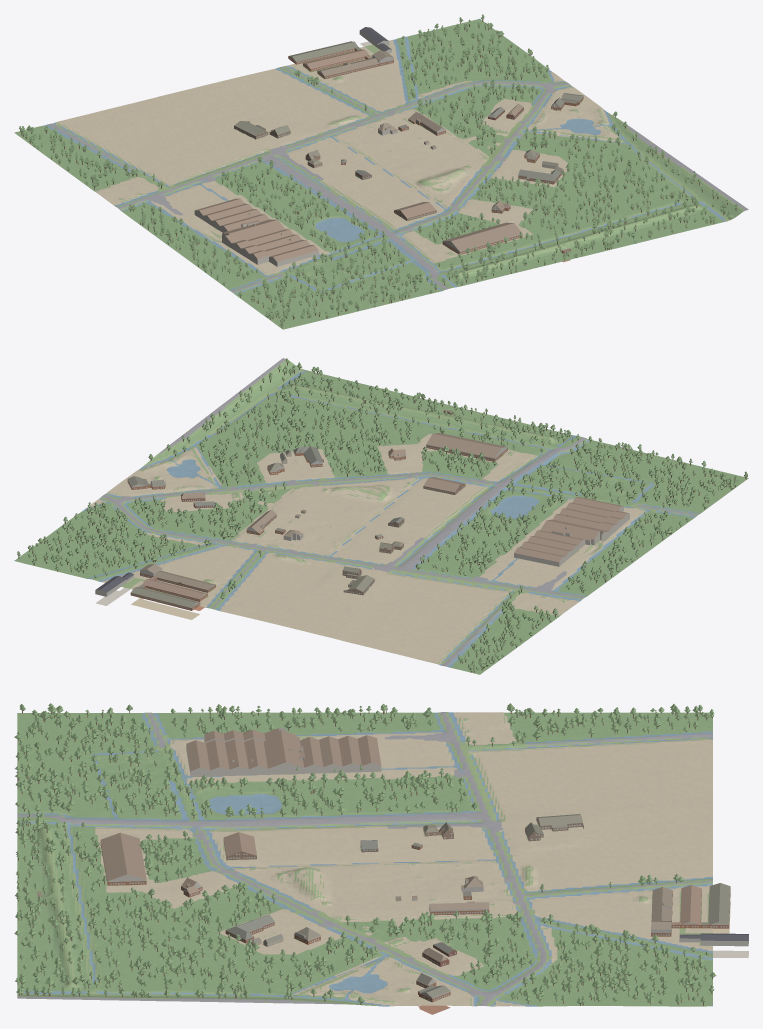
Rendered from bosven-veghel_x334_y811.glb.
3 renders of one model, top to bottom at view 1: azimuth 30°, elevation 25°; view 2: azimuth 150°, elevation 25°; view 3: azimuth 270°, elevation 25°, orthographic. The views are drawn at different scales.
Parts seen in each view (by area): view 1: class:green, class:sand, class:tree, class:grass, class:roof, class:water, class:road, class:wall, class:trunk, class:trim; view 2: class:green, class:sand, class:tree, class:grass, class:roof, class:water, class:road, class:wall, class:trunk, class:trim; view 3: class:sand, class:green, class:tree, class:grass, class:roof, class:water, class:road, class:wall, class:trunk, class:trim.
Part boxes in pixels (box(x1,y1,x2,y2)): class:green: box(14, 19, 742, 329); class:sand: box(55, 40, 624, 275); class:tree: box(19, 14, 737, 325); class:grass: box(55, 37, 744, 293); class:roof: box(196, 27, 583, 262); class:water: box(44, 18, 726, 294); class:road: box(48, 66, 748, 292); class:wall: box(194, 31, 583, 266); class:trunk: box(20, 19, 736, 327); class:trim: box(195, 33, 583, 265); class:green: box(15, 360, 748, 674); class:sand: box(86, 433, 645, 664); class:tree: box(17, 358, 747, 671); class:grass: box(89, 360, 698, 664); class:roof: box(96, 409, 628, 608); class:water: box(14, 370, 699, 667); class:road: box(101, 358, 697, 666); class:wall: box(95, 410, 629, 619); class:trunk: box(18, 363, 746, 672); class:trim: box(96, 412, 629, 609); class:sand: box(95, 712, 712, 1006); class:green: box(17, 712, 712, 1006); class:tree: box(14, 703, 716, 1003); class:grass: box(17, 712, 712, 1006); class:roof: box(38, 727, 748, 997); class:water: box(17, 712, 712, 1006); class:road: box(17, 712, 712, 1005); class:wall: box(37, 727, 748, 1014); class:trunk: box(17, 710, 712, 1005); class:trim: box(37, 741, 746, 1000).
Bounding box in the file's own units: 504 × 20.58 × 528.
